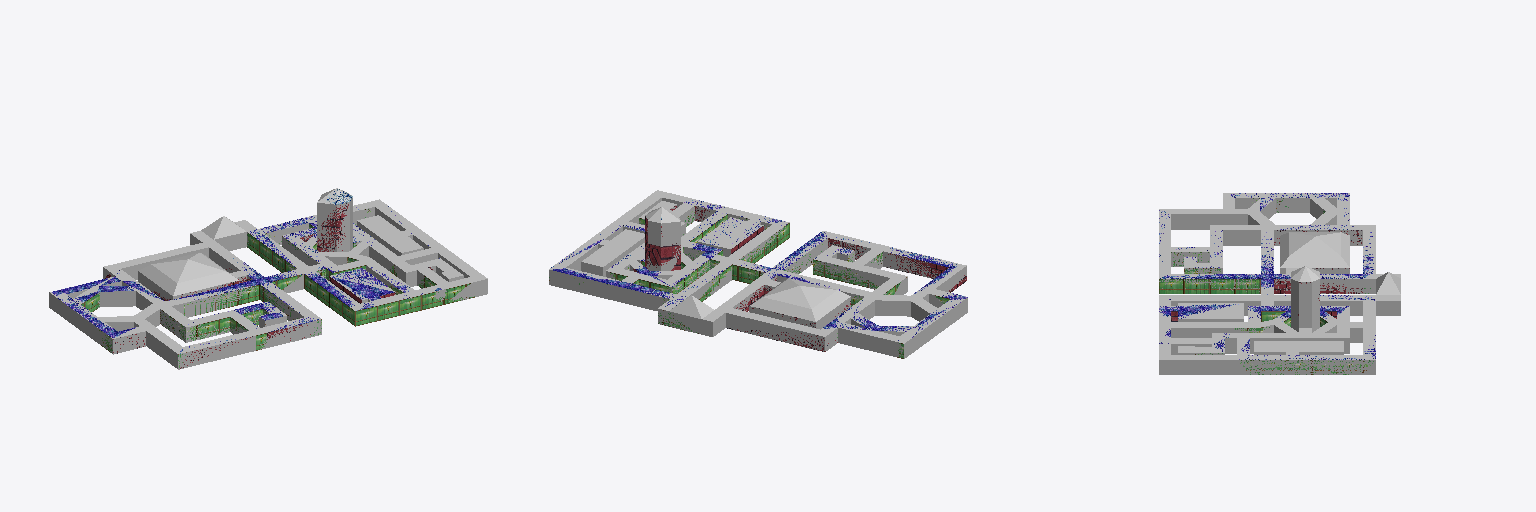
The picture shows the model from 3 angles: view 1: azimuth 30°, elevation 25°; view 2: azimuth 150°, elevation 25°; view 3: azimuth 270°, elevation 25°; orthographic projection.
Visible parts, largest first — view 1: SquareTunnelCollisionBox, SquareTunnel; view 2: SquareTunnelCollisionBox, SquareTunnel; view 3: SquareTunnelCollisionBox, SquareTunnel.
Part boxes in pixels (x1,y1,x2,y2): SquareTunnelCollisionBox: (49,188,487,369); SquareTunnel: (52,189,474,368); SquareTunnelCollisionBox: (549,190,967,358); SquareTunnel: (549,200,967,358); SquareTunnelCollisionBox: (1159,193,1400,374); SquareTunnel: (1159,193,1375,374).
Bounding box in the file's own units: 6975 × 1387 × 4275.
14 materials, 6 textured.